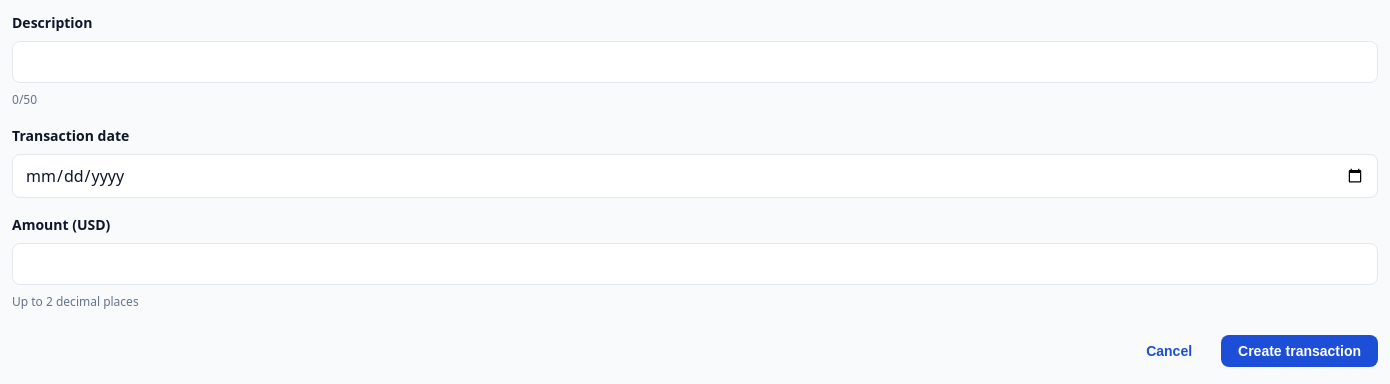
Test case: TransactionForm › updates the live character counter as the user types the description
In the field labelled "Description": (695, 62) left=12, top=41, right=1378, bottom=83, type "Office supplies"
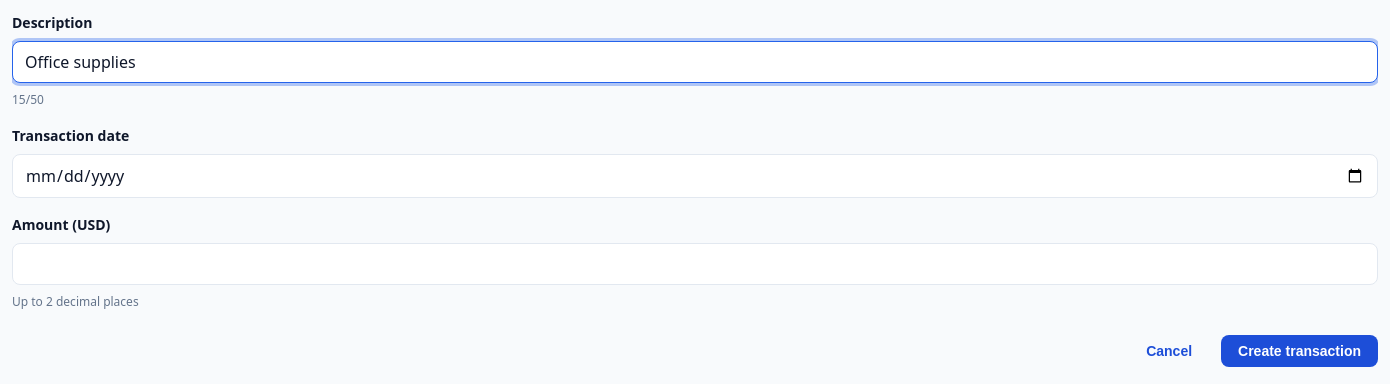
Check: the text "15/50" is shown, box left=12, top=91, right=44, bottom=108
